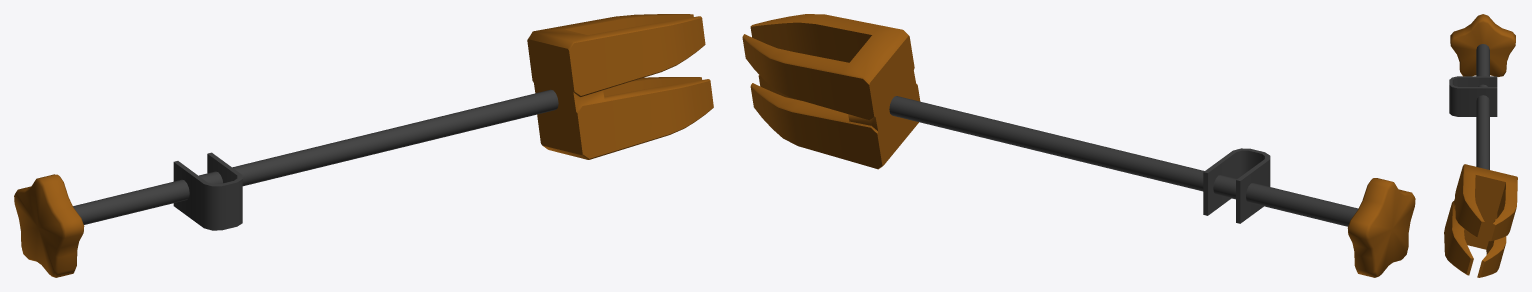
Rendered from SM_凯式定氮仪夹子_002_2.fbx.
3 views of the same model, side by side, from view 1: azimuth 30°, elevation 25°; view 2: azimuth 150°, elevation 25°; view 3: azimuth 270°, elevation 25° (orthographic). The views are drawn at different scales.
Visible parts, largest first — view 1: SM_凯式定氮仪夹子_002_2; view 2: SM_凯式定氮仪夹子_002_2; view 3: SM_凯式定氮仪夹子_002_2.
Boxes of the visible parts, bbox=[...] form: SM_凯式定氮仪夹子_002_2: bbox=[14, 14, 713, 277]; SM_凯式定氮仪夹子_002_2: bbox=[742, 14, 1415, 277]; SM_凯式定氮仪夹子_002_2: bbox=[1444, 14, 1517, 277].
Bounding box in the file's own units: 0.2432 × 0.0444 × 0.0363.
